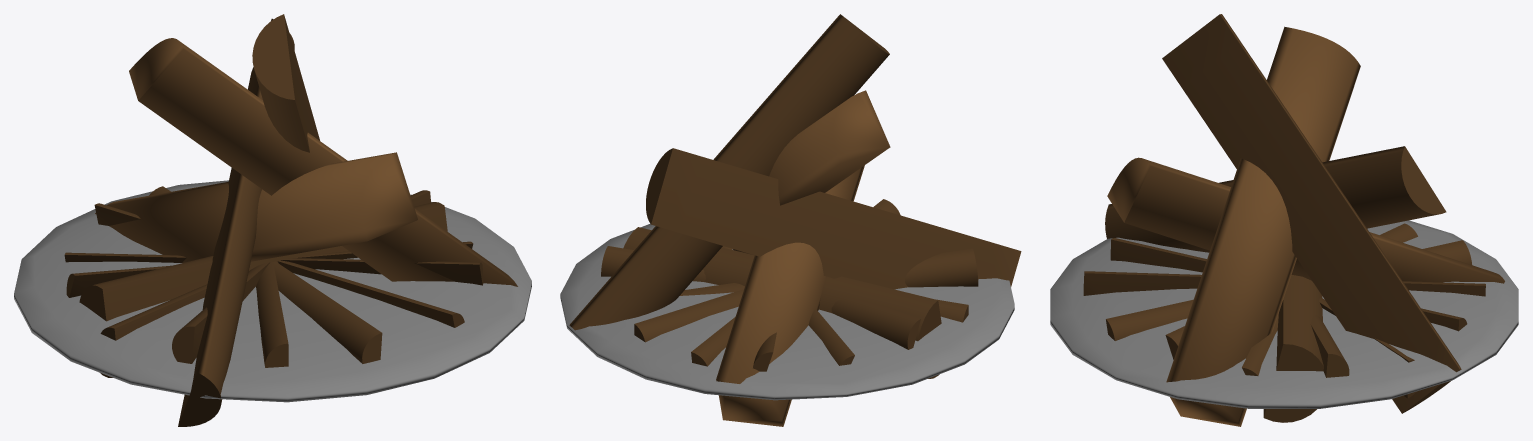
Rendered from Bon Fires.glb.
The picture shows the model from 3 angles, left to right: view 1: azimuth 30°, elevation 25°; view 2: azimuth 150°, elevation 25°; view 3: azimuth 270°, elevation 25°; orthographic projection. The views are drawn at different scales.
Visible parts, largest first — view 1: AshPile, WoodCut (×2), Wood (×10); view 2: Wood (×10), AshPile, WoodCut (×2); view 3: Wood (×9), WoodCut (×2), AshPile.
Boxes of the visible parts, x1,y1,x2,y2 form: AshPile: (14,180,531,402); WoodCut (×2): (95,38,517,286); Wood (×10): (64,14,483,426); Wood (×10): (569,14,1021,378); AshPile: (560,223,1014,400); WoodCut (×2): (716,90,890,426); Wood (×9): (1083,14,1485,422); WoodCut (×2): (1107,26,1504,426); AshPile: (1050,220,1518,408).
Bounding box in the file's own units: 0.5377 × 0.4174 × 0.5377.
